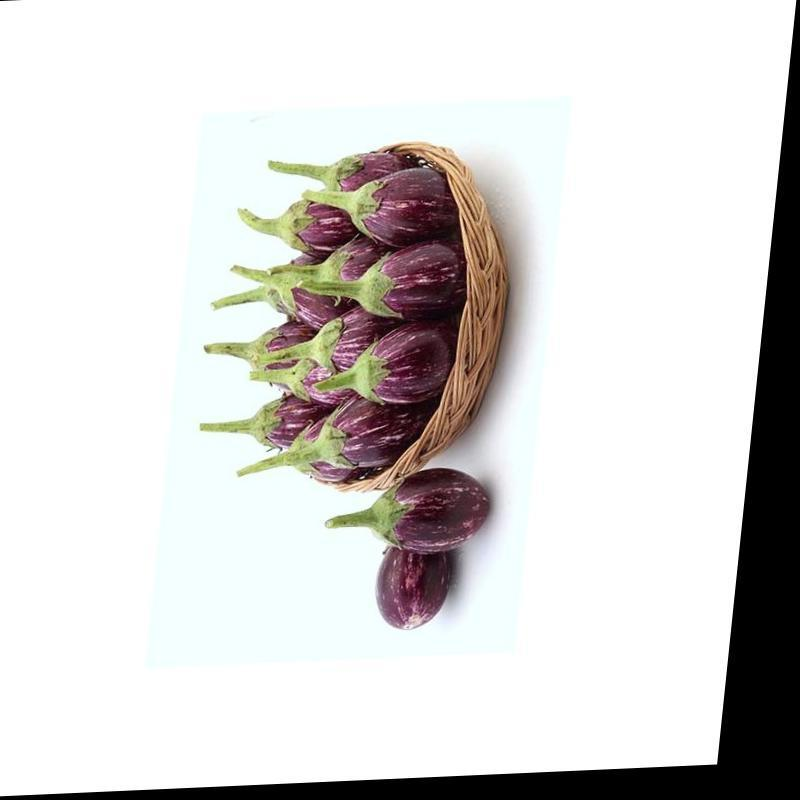eggplant: (226, 118, 480, 486), (326, 478, 493, 636)
